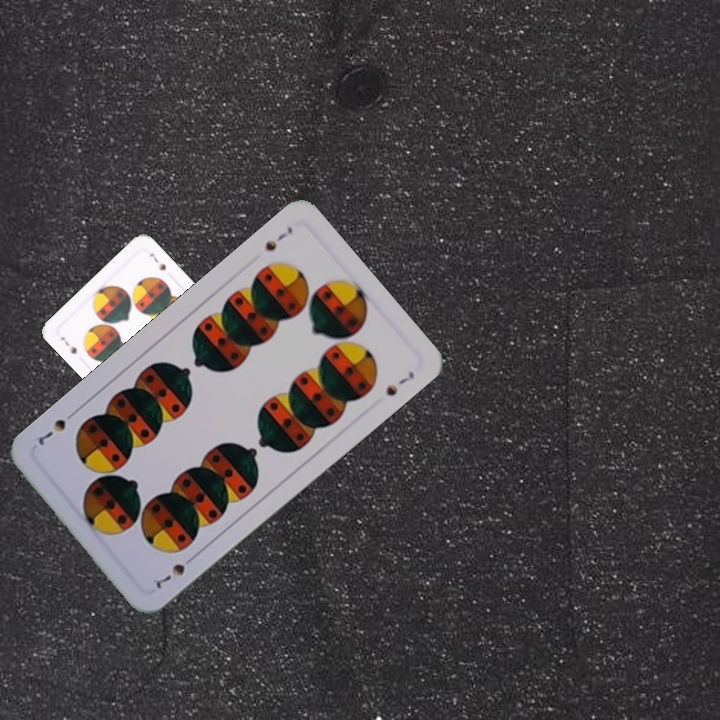S7: (151, 551, 199, 592), (261, 222, 296, 254), (56, 332, 80, 357)
